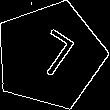L_SW: (22, 26, 78, 85)
